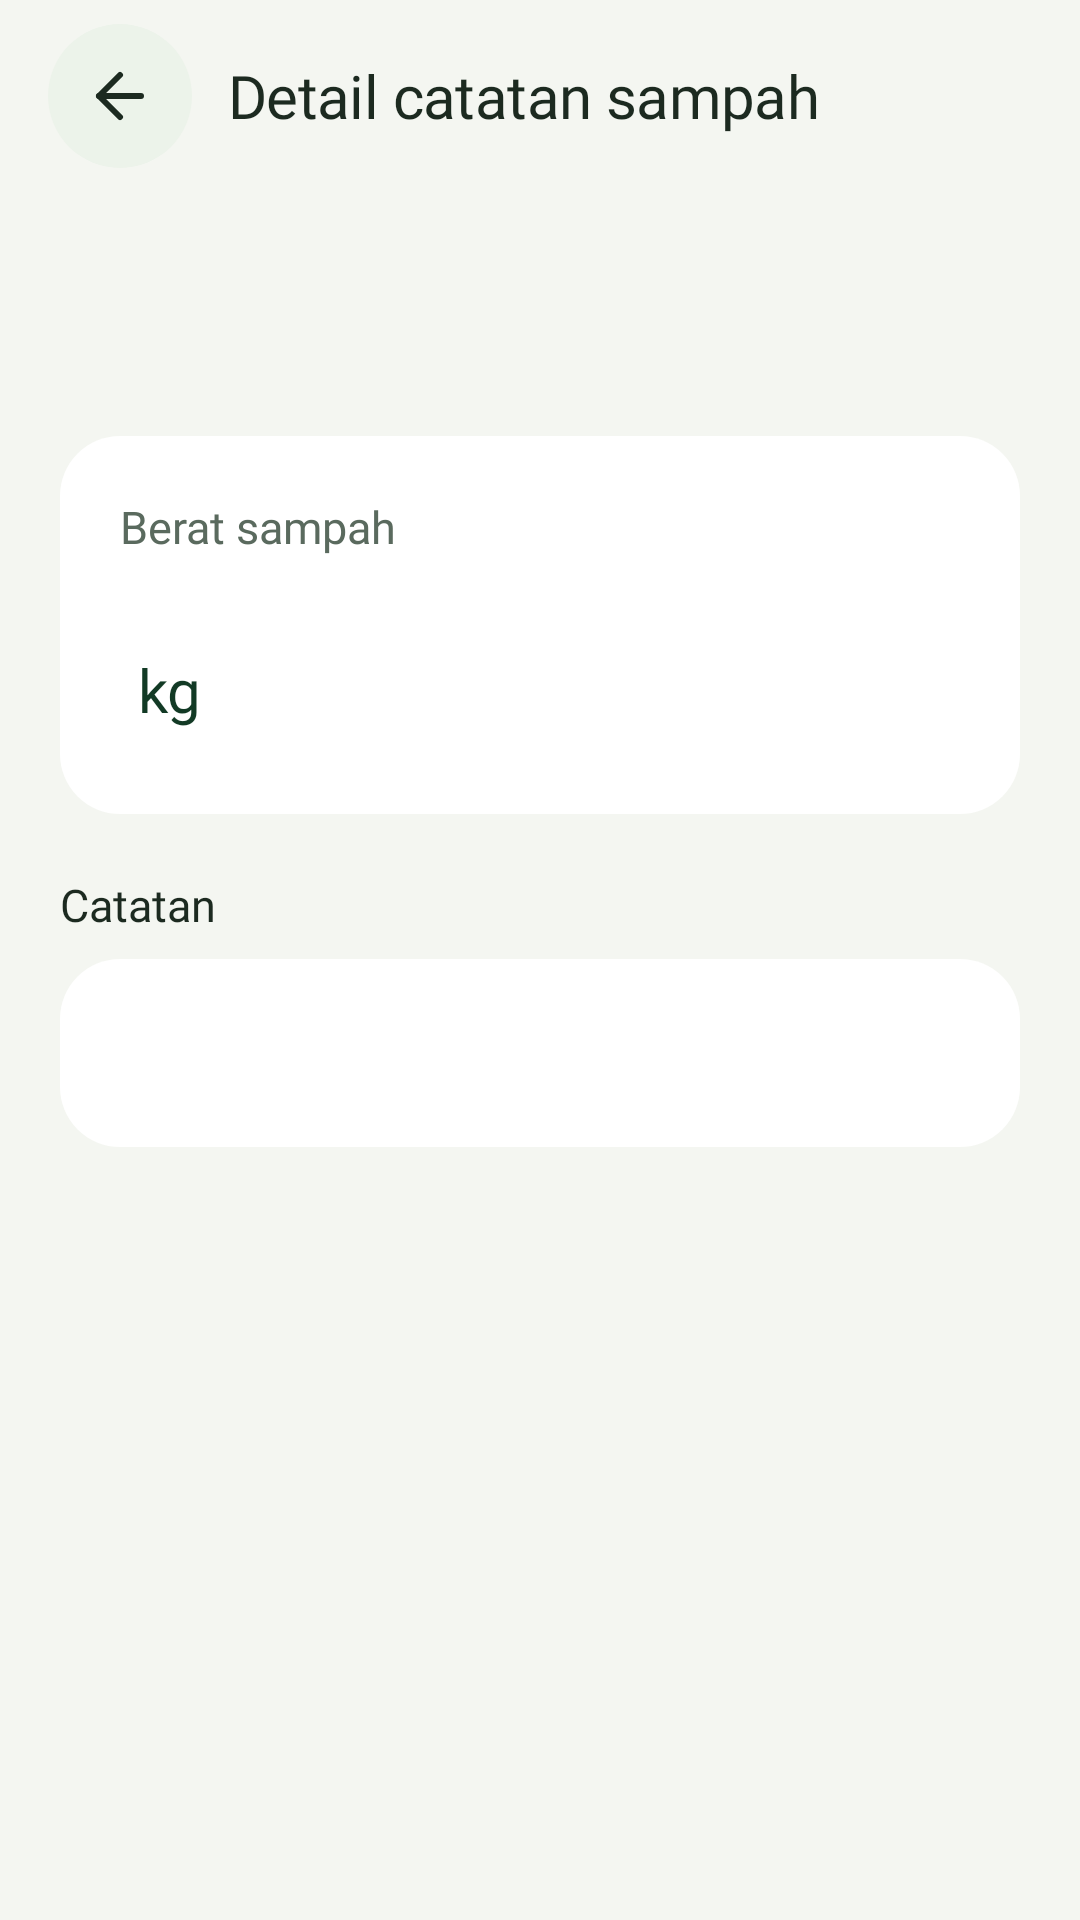

Point at icon controls on the screen. Image size 1080×1920, points as [x,y].
Kembali: [120,96]
